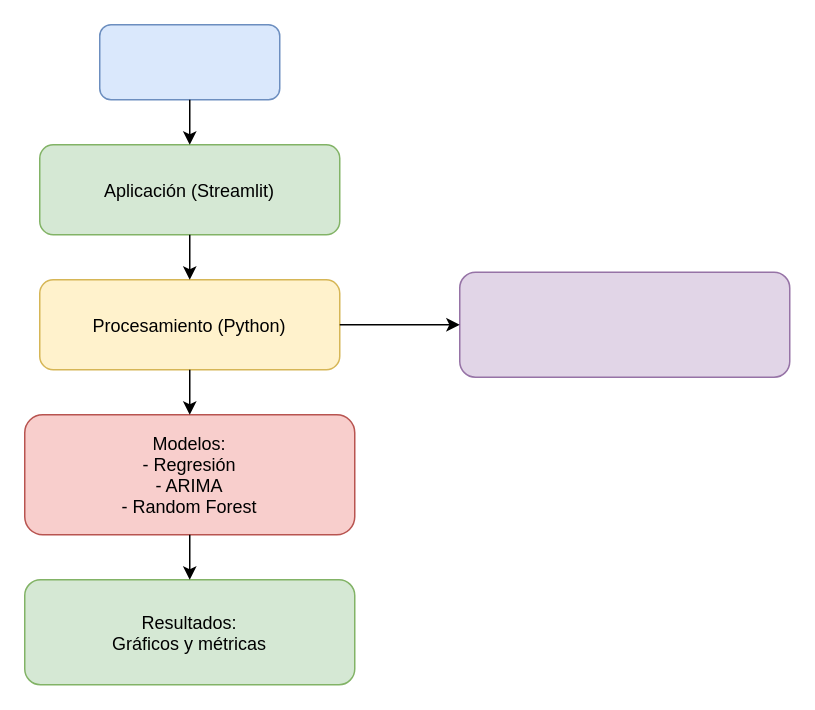
This 815x710 diagram has some shape labels left out. Each missing label, with the centre of its shape:
"Base de datos (SQLite)" belongs at (x=624, y=324).
"Usuario" belongs at (x=189, y=61).
